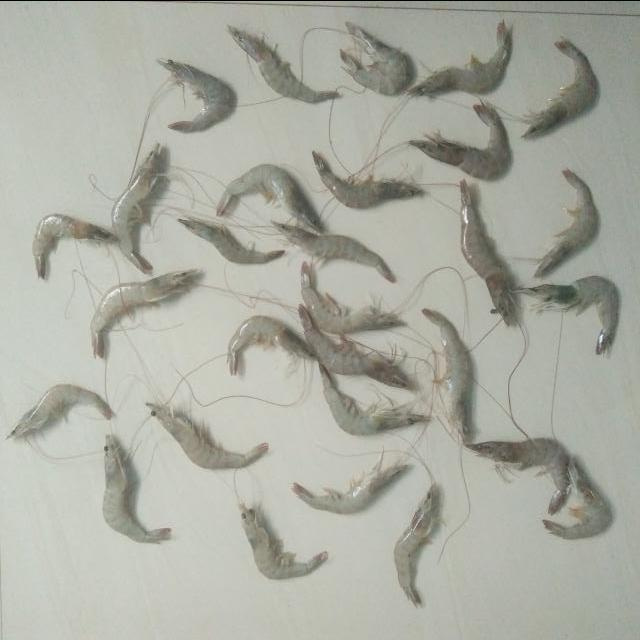shrimp: (298, 303, 413, 390), (90, 268, 197, 357), (227, 23, 339, 101), (145, 402, 268, 469), (515, 275, 619, 354), (409, 99, 510, 179), (466, 438, 571, 514), (319, 363, 429, 435), (461, 178, 514, 325), (522, 37, 598, 137), (409, 20, 511, 94), (272, 220, 395, 281), (301, 261, 405, 333), (102, 435, 170, 543), (216, 162, 322, 231), (292, 453, 407, 514), (535, 168, 599, 277), (239, 503, 328, 579), (423, 308, 470, 443), (312, 150, 423, 207), (111, 142, 159, 273), (544, 456, 613, 539), (6, 384, 111, 438), (157, 58, 234, 131), (394, 485, 439, 607), (32, 212, 116, 277), (227, 314, 317, 374), (340, 20, 408, 94), (177, 217, 285, 263)
